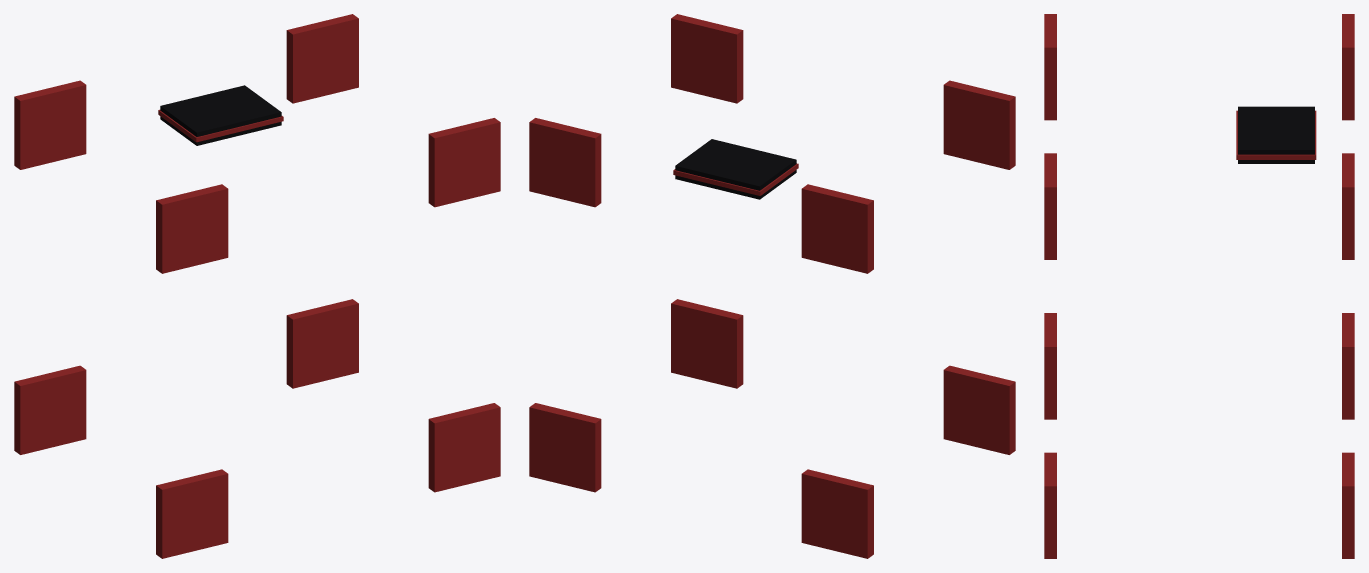
Rendered from z1_seal.obj.
3 renders of one model, left to right at view 1: azimuth 30°, elevation 25°; view 2: azimuth 150°, elevation 25°; view 3: azimuth 270°, elevation 25°, orthographic. The views are drawn at different scales.
Visible parts, largest first — view 1: z1_seal; view 2: z1_seal; view 3: z1_seal.
Boxes of the visible parts, x1,y1,x2,y2 form: z1_seal: [14, 14, 500, 558]; z1_seal: [529, 14, 1015, 558]; z1_seal: [1044, 14, 1354, 558].
Size of the model in its own units: 1.6 by 1.6 by 1.21.
